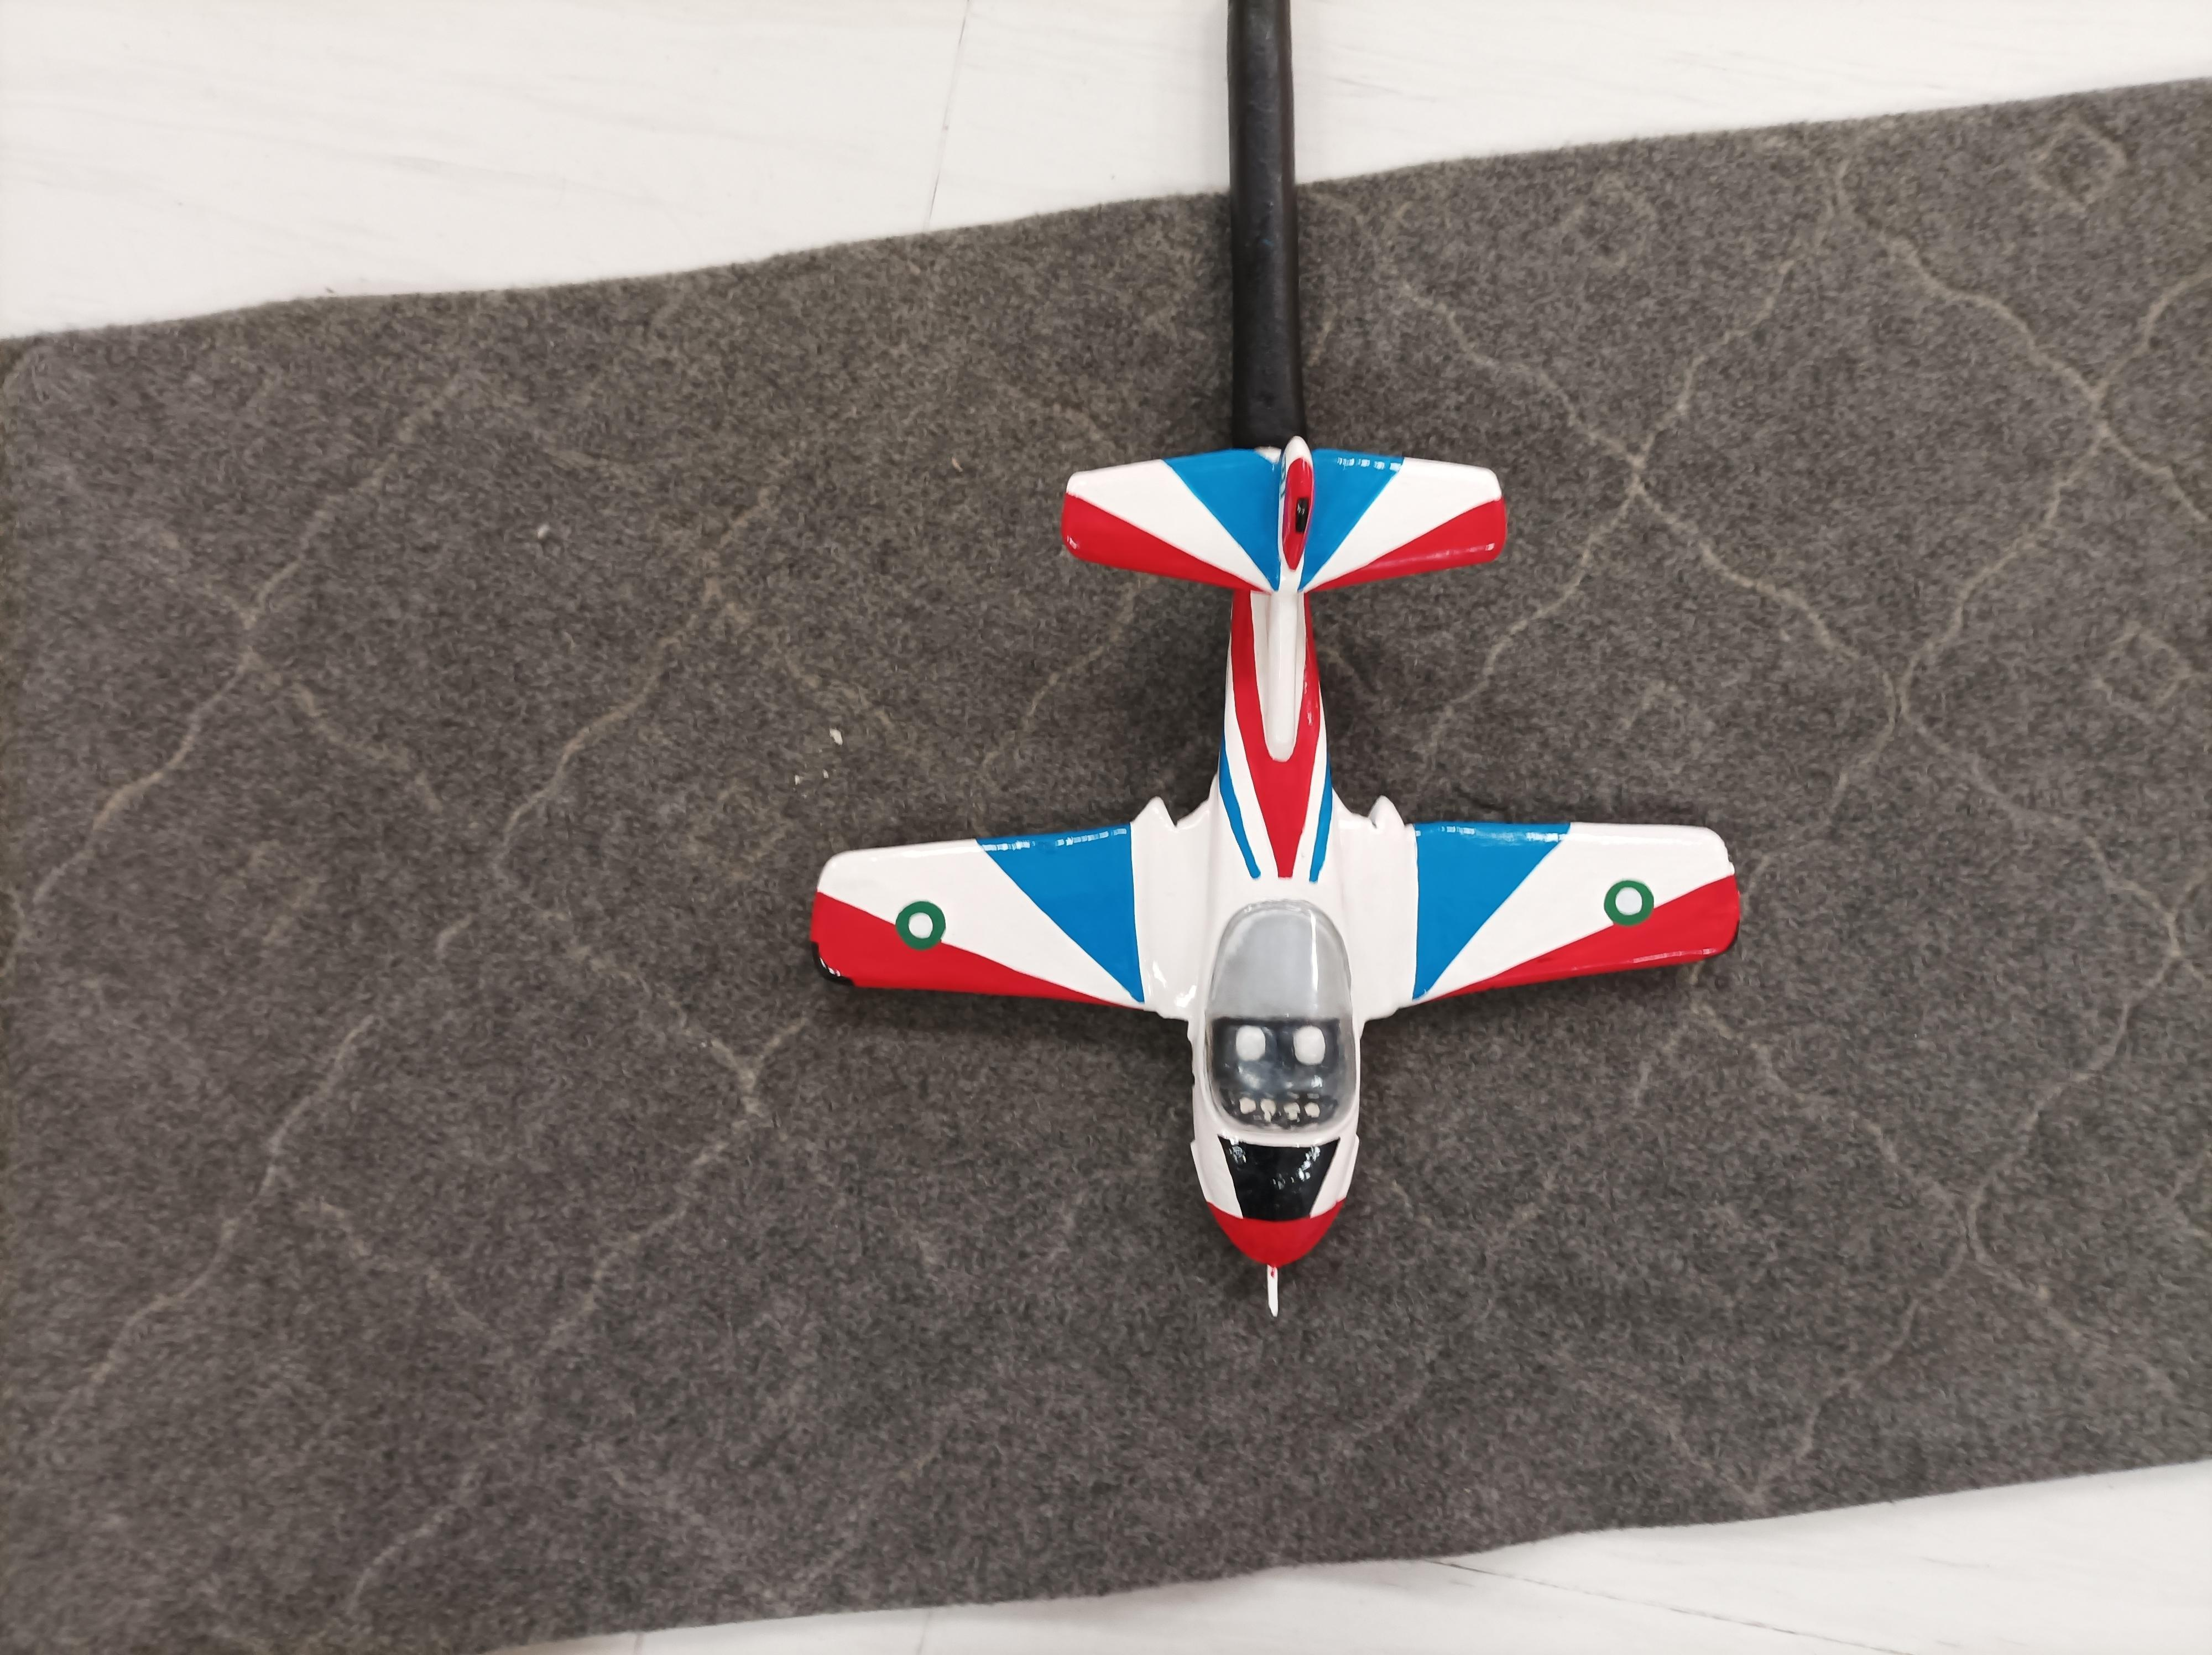Airplane: (791, 422, 1755, 1281)
